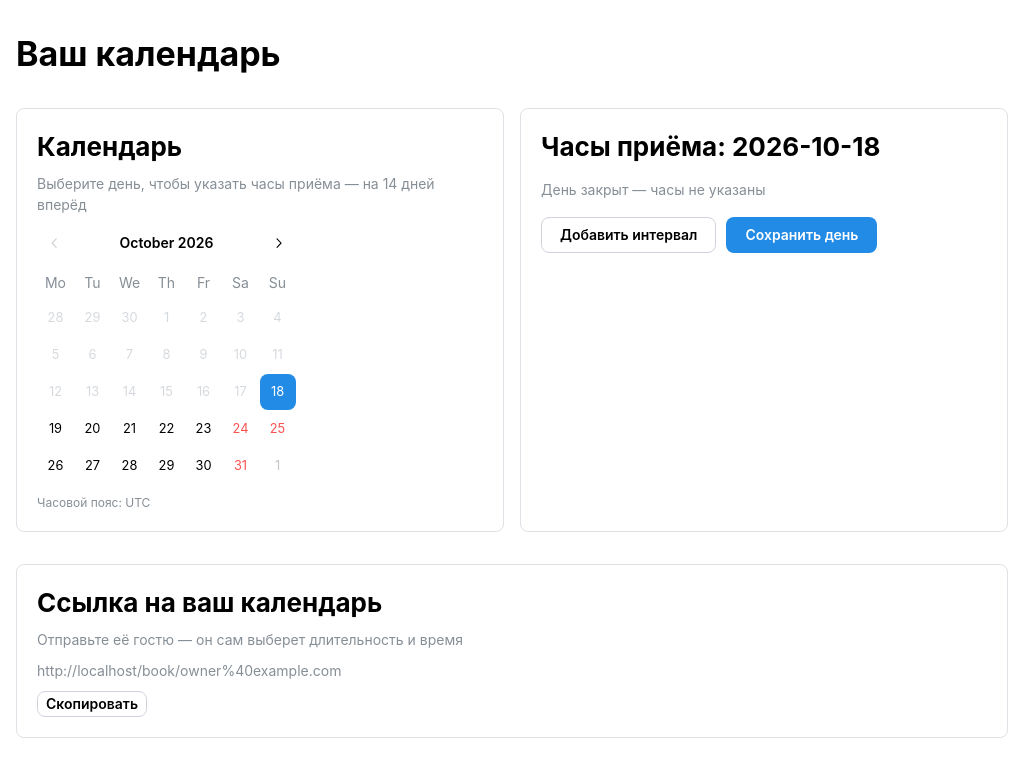
Scenario: кабинет владельца: календарь доступности › пересекающиеся интервалы не уходят на сервер
This screenshot has width=1024, height=768.
Check: the text "День закрыт — часы не указаны" is shown, box left=541, top=181, right=766, bottom=198
Click the button "Добавить интервал" at (629, 235), box left=541, top=217, right=716, bottom=253
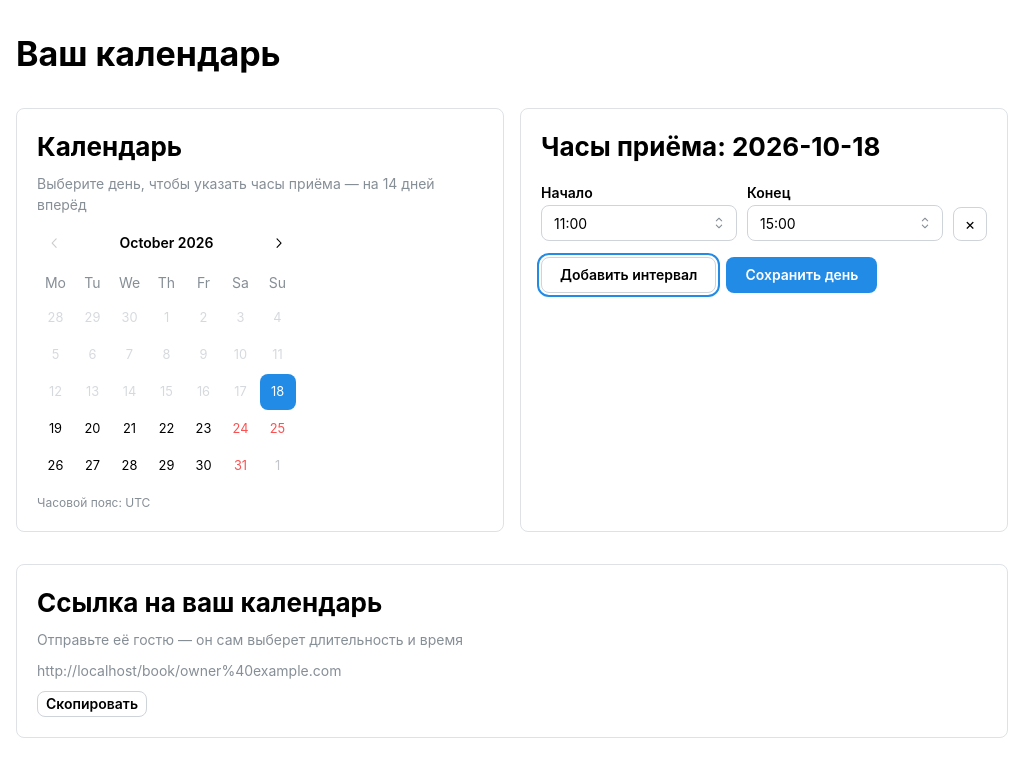
Click the button "Добавить интервал" at (629, 275), box left=541, top=257, right=716, bottom=293
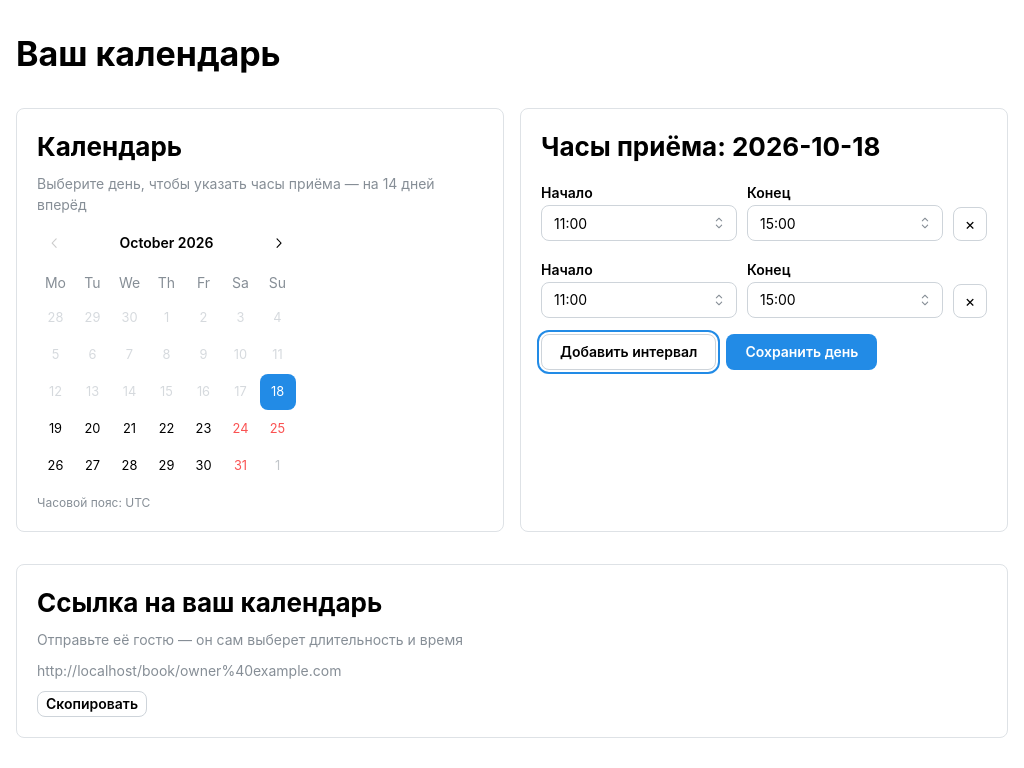
Click the button "Сохранить день" at (802, 352), box left=726, top=334, right=877, bottom=370
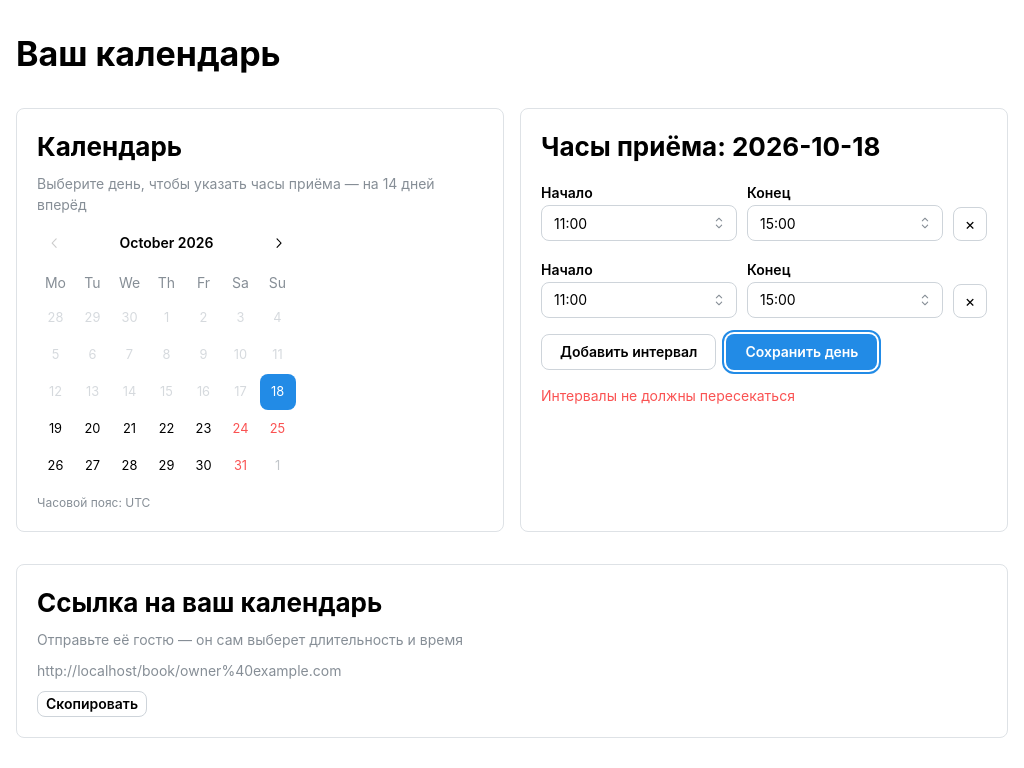
Check: the text "Интервалы не должны пересекаться" is shown, box left=541, top=387, right=795, bottom=404
